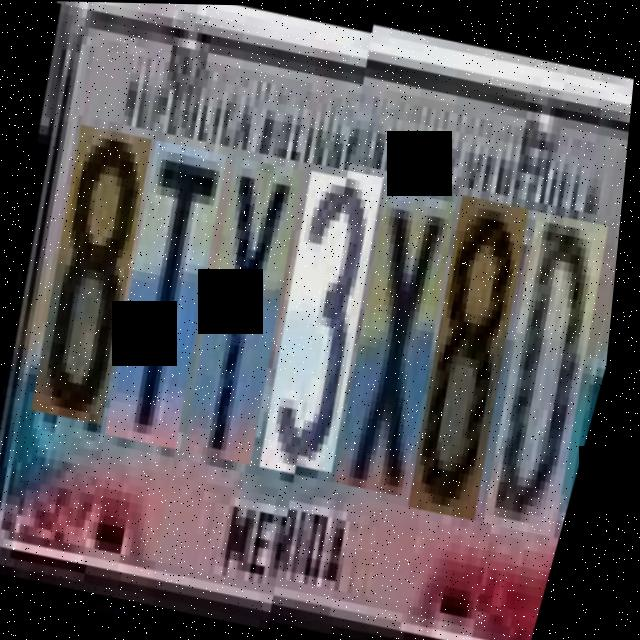3: (239, 160, 406, 469)
8: (384, 191, 554, 516), (10, 114, 174, 414)
D: (459, 206, 625, 532)
T: (83, 129, 250, 438)
X: (311, 176, 482, 493)
Y: (163, 145, 326, 453)
